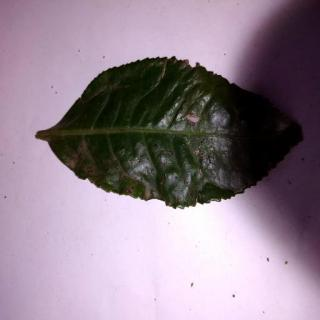Bird Eye Spot: (37, 58, 307, 212)
